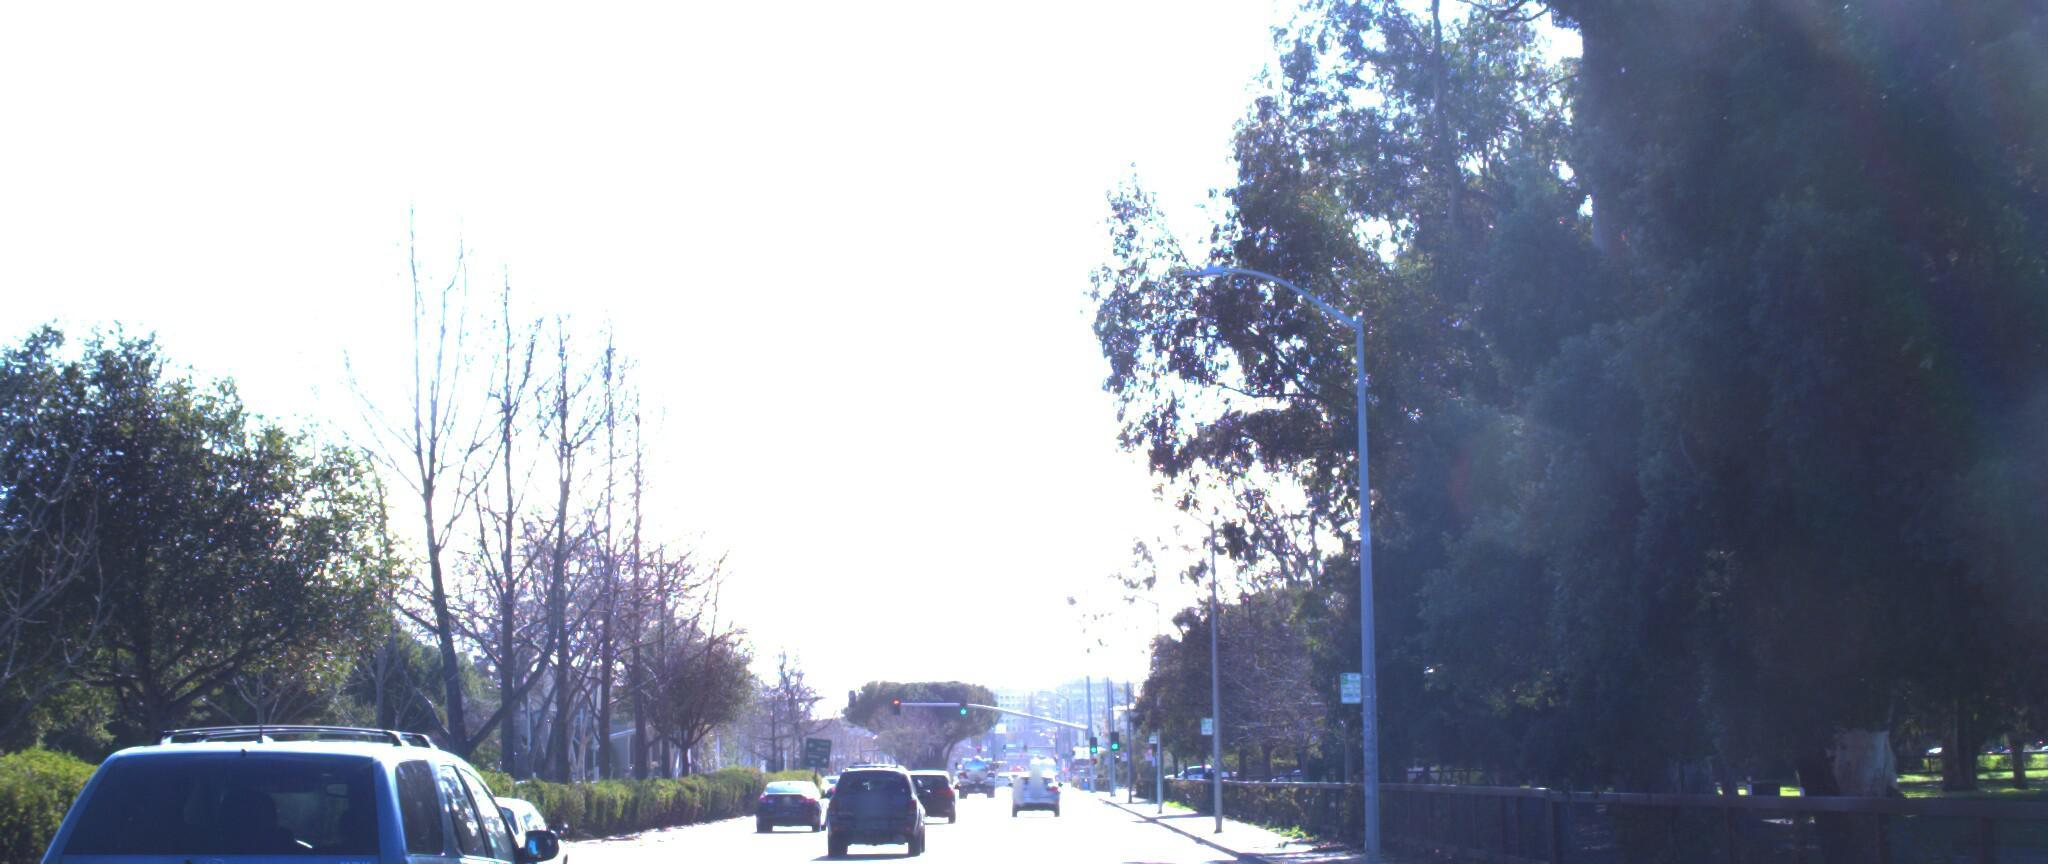car: (0, 705, 605, 864), (368, 777, 600, 864), (818, 754, 934, 854)
